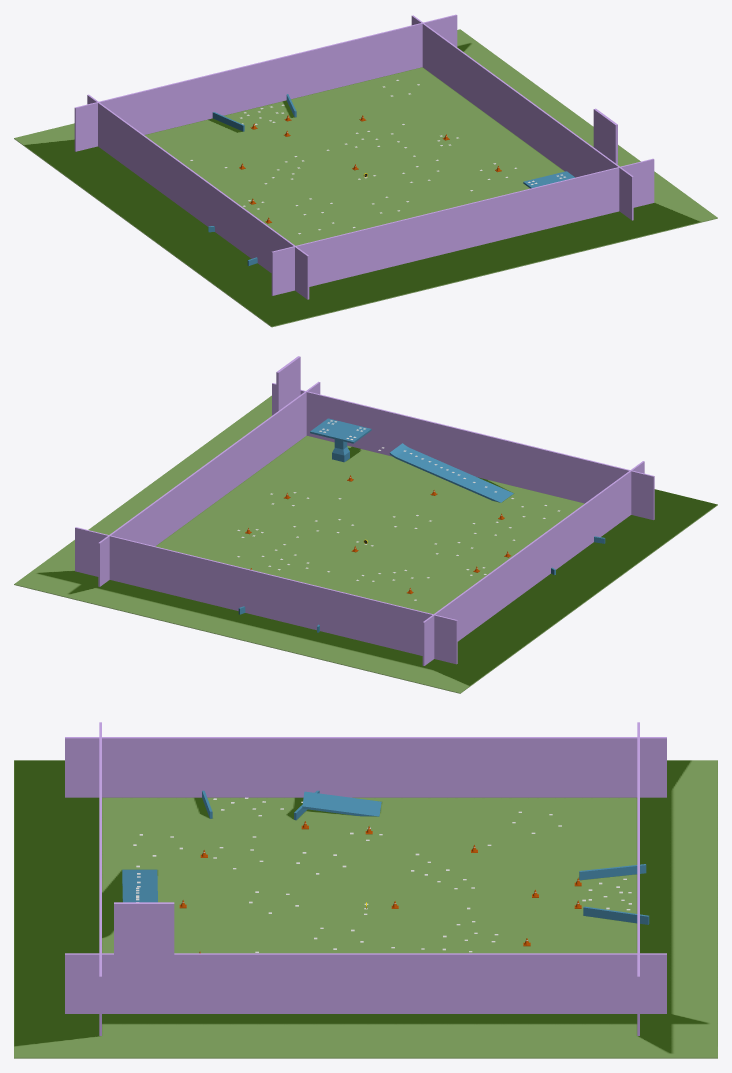
File: basic-tag-course.glb
3 views of the same model, one above another, from view 1: azimuth 30°, elevation 25°; view 2: azimuth 150°, elevation 25°; view 3: azimuth 270°, elevation 25° (orthographic). The views are drawn at different scales.
Parts seen in each view (by area): view 1: ground, fence.003, fence.002, fence.001, fence; view 2: ground, fence.002, fence.003, fence.001, fence, fence.009, fence.010; view 3: ground, fence.001, fence, fence.008, fence.009, fence.002, fence.003, fence.004, fence.005.
Part boxes in pixels (bbox=[...]): ground: bbox=[14, 29, 717, 327]; fence.003: bbox=[271, 158, 654, 295]; fence.002: bbox=[74, 14, 457, 151]; fence.001: bbox=[411, 15, 633, 220]; fence: bbox=[87, 94, 309, 299]; ground: bbox=[14, 395, 717, 693]; fence.002: bbox=[75, 527, 457, 664]; fence.003: bbox=[272, 383, 654, 520]; fence.001: bbox=[98, 356, 320, 586]; fence: bbox=[422, 461, 644, 665]; fence.009: bbox=[389, 443, 513, 502]; fence.010: bbox=[310, 418, 371, 462]; ground: bbox=[14, 760, 717, 1058]; fence.001: bbox=[65, 902, 666, 1013]; fence: bbox=[65, 737, 666, 797]; fence.008: bbox=[302, 791, 381, 816]; fence.009: bbox=[122, 869, 157, 902]; fence.002: bbox=[637, 722, 639, 1035]; fence.003: bbox=[99, 722, 101, 1035]; fence.004: bbox=[579, 864, 646, 880]; fence.005: bbox=[583, 906, 649, 924].
Size of the model in its own units: 400 by 74.27 by 400.
Materials: 2 (2 with a texture image).
